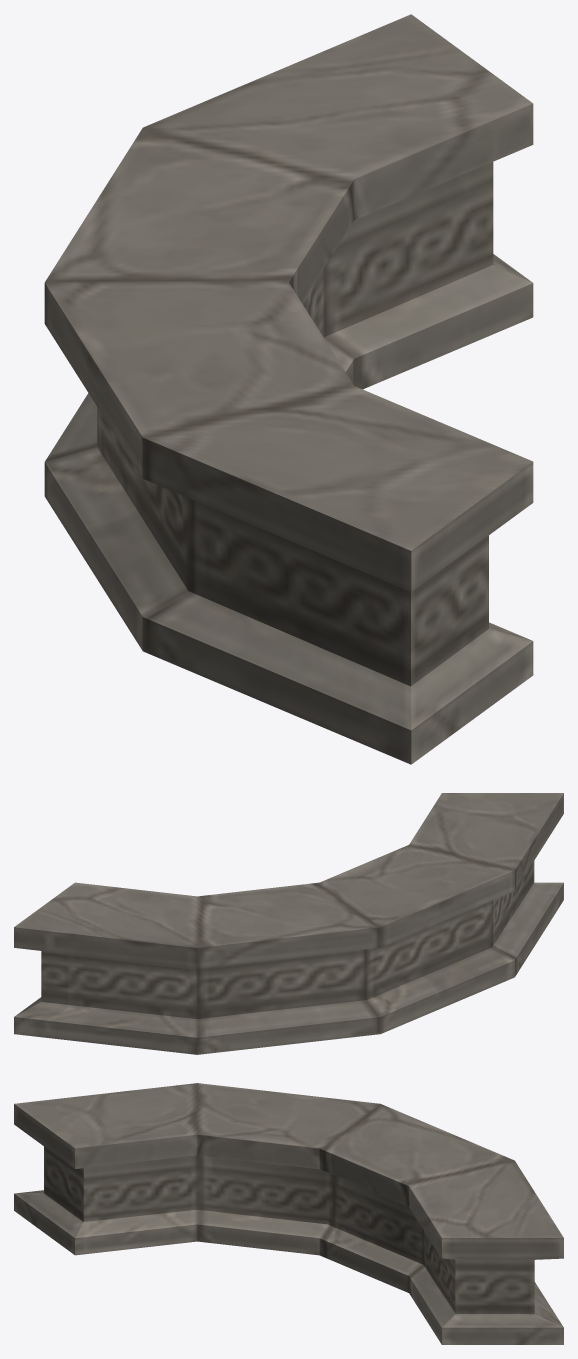
The model's file is ruin_pillar_4.FBX.
3 renders of one model, top to bottom at view 1: azimuth 30°, elevation 25°; view 2: azimuth 150°, elevation 25°; view 3: azimuth 270°, elevation 25°, orthographic. The views are drawn at different scales.
Visible parts, largest first — view 1: Object028; view 2: Object028; view 3: Object028.
Boxes of the visible parts, box(x1,y1,x2,y2) form: Object028: box(44, 14, 533, 764); Object028: box(14, 793, 563, 1054); Object028: box(14, 1083, 563, 1344).
Size of the model in its own units: 2.58 by 0.83 by 3.87.
